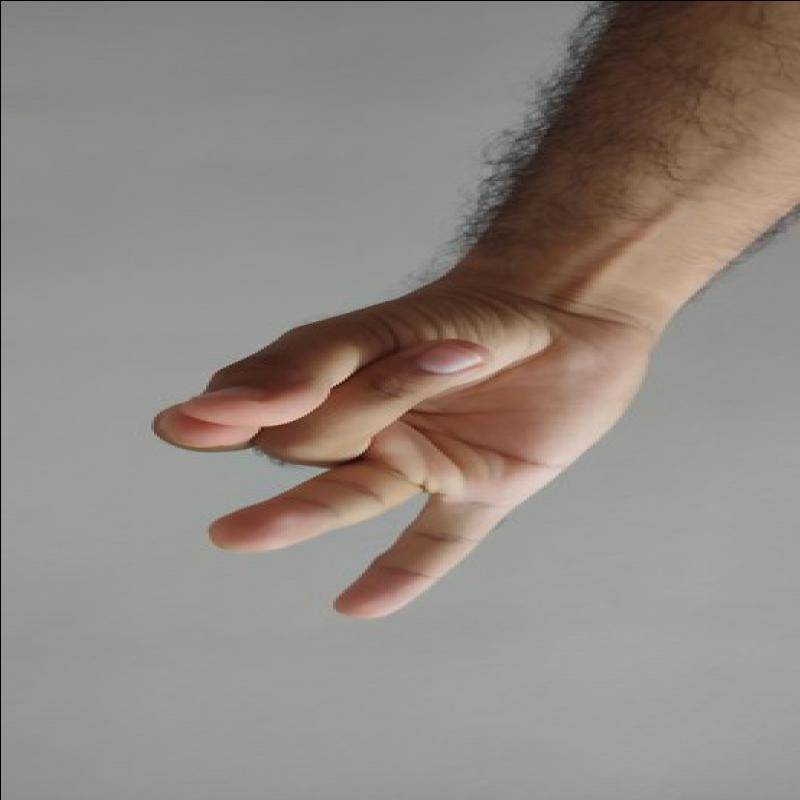Katakam: (136, 270, 661, 646)
